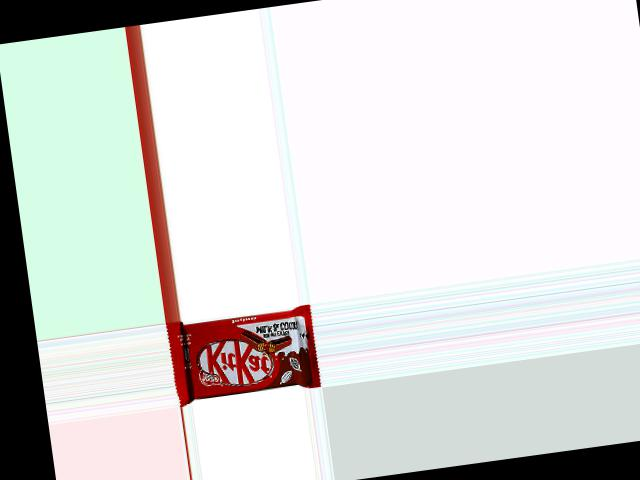chocolate: (166, 303, 322, 406)
